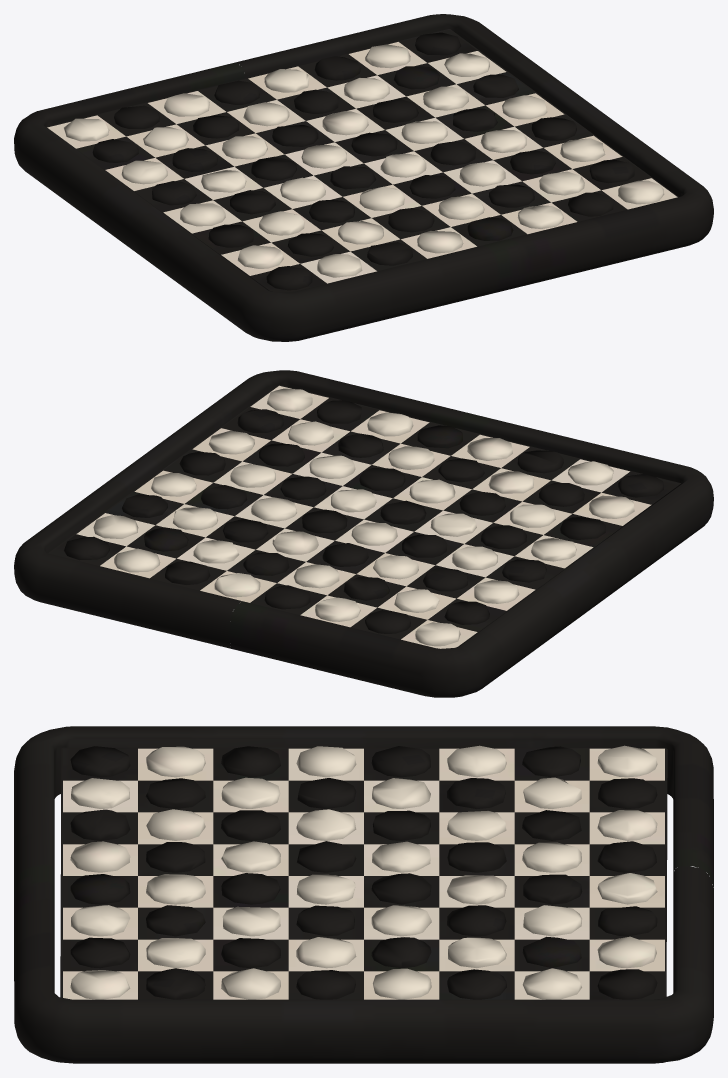
The model's file is legoed_chessboard.glb.
3 renders of one model, top to bottom at view 1: azimuth 30°, elevation 25°; view 2: azimuth 150°, elevation 25°; view 3: azimuth 270°, elevation 25°, orthographic. The views are drawn at different scales.
Parts seen in each view (by area): view 1: Frame, PadsLight, PadsDark, SquaresDark, SquaresLight; view 2: Frame, PadsLight, PadsDark, SquaresDark, SquaresLight; view 3: Frame, PadsLight, PadsDark, SquaresDark, SquaresLight.
Part boxes in pixels (<box>): Frame: <box>14,14,713,341</box>; PadsLight: <box>64,44,664,277</box>; PadsDark: <box>92,32,634,290</box>; SquaresDark: <box>46,29,678,292</box>; SquaresLight: <box>47,42,677,283</box>; Frame: <box>14,370,713,697</box>; PadsLight: <box>93,388,634,646</box>; PadsDark: <box>64,400,663,633</box>; SquaresDark: <box>48,385,680,646</box>; SquaresLight: <box>76,385,651,648</box>; Frame: <box>14,726,713,1063</box>; PadsLight: <box>70,745,657,999</box>; PadsDark: <box>70,746,657,999</box>; SquaresDark: <box>60,747,667,999</box>; SquaresLight: <box>63,748,664,999</box>.
Size of the model in its own units: 0.4183 by 0.0366 by 0.4185.
4 materials, 4 textured.
